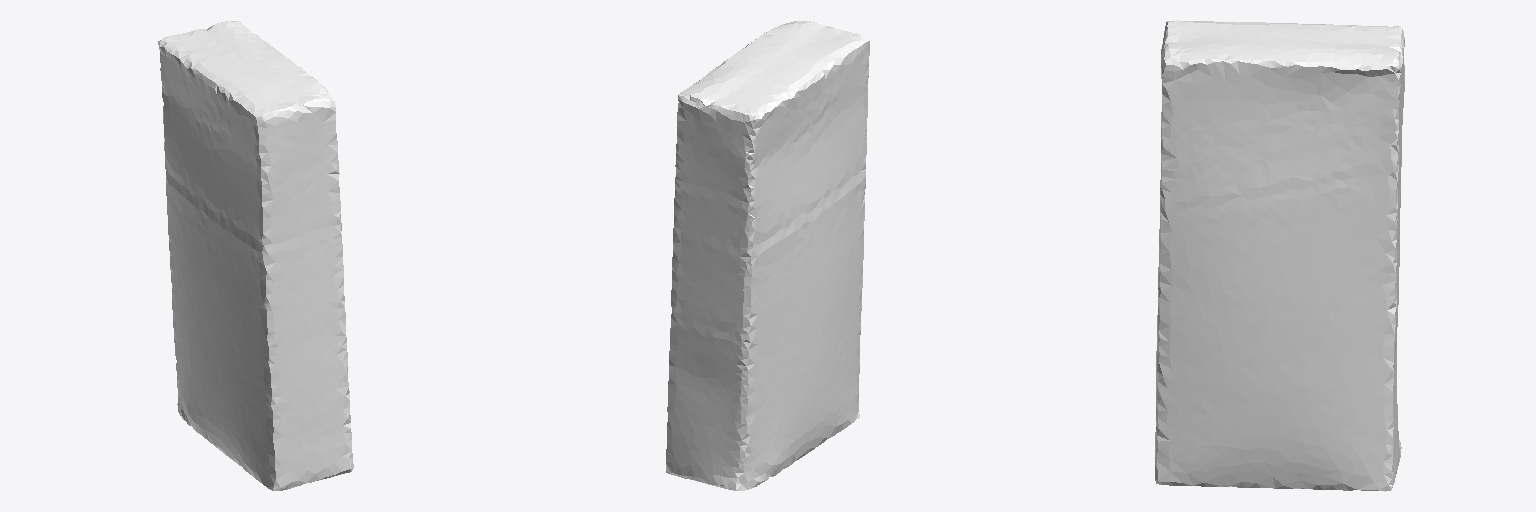
The robot description file, URDF, robot "Sugar_box":
<?xml version="1.0" ?>
<robot name="Sugar_box">
  <link name="Link">

    <inertial>
      <origin rpy="0 0 0" xyz="-0.007799 -0.016942 0.087678"/>
       <mass value="0.5"/>
       <inertia ixx="0.000002" ixy="0" ixz="0"
                iyy="0.000002" iyz="0"
                izz="0.000001"/>
    </inertial>
    <visual>
      <origin rpy="0 0 0" xyz="0 0 0"/>
      <geometry>
           <mesh filename="textured2.obj" scale="1 1 1"/>
      </geometry>
      <material name="framemat0">
        <color rgba="1 1 1 1"/>
      </material>
    </visual>
    <collision>
      <geometry>
	 	 <mesh filename="textured2.obj" scale="1 1 1"/>
      </geometry>
    </collision>
  </link>
</robot>

--- Render facts (derived) ---
3 views of the same robot in one strip: view 1: azimuth 30°, elevation 25°; view 2: azimuth 150°, elevation 25°; view 3: azimuth 270°, elevation 25° (orthographic).
Robot: Sugar_box — 1 links, 0 joints (none); root link Link; default pose: every joint at zero.
Links seen in each view (by area): view 1: Link; view 2: Link; view 3: Link.
Link boxes in pixels (x1=…): Link: x1=158, y1=21, x2=353, y2=490; Link: x1=666, y1=21, x2=869, y2=490; Link: x1=1155, y1=20, x2=1404, y2=491.
Size in the robot's own frame: 0.0492 by 0.0943 by 0.176 metres.
Meshes: 1 distinct files referenced, 1 mesh visuals loaded (1 OBJ).